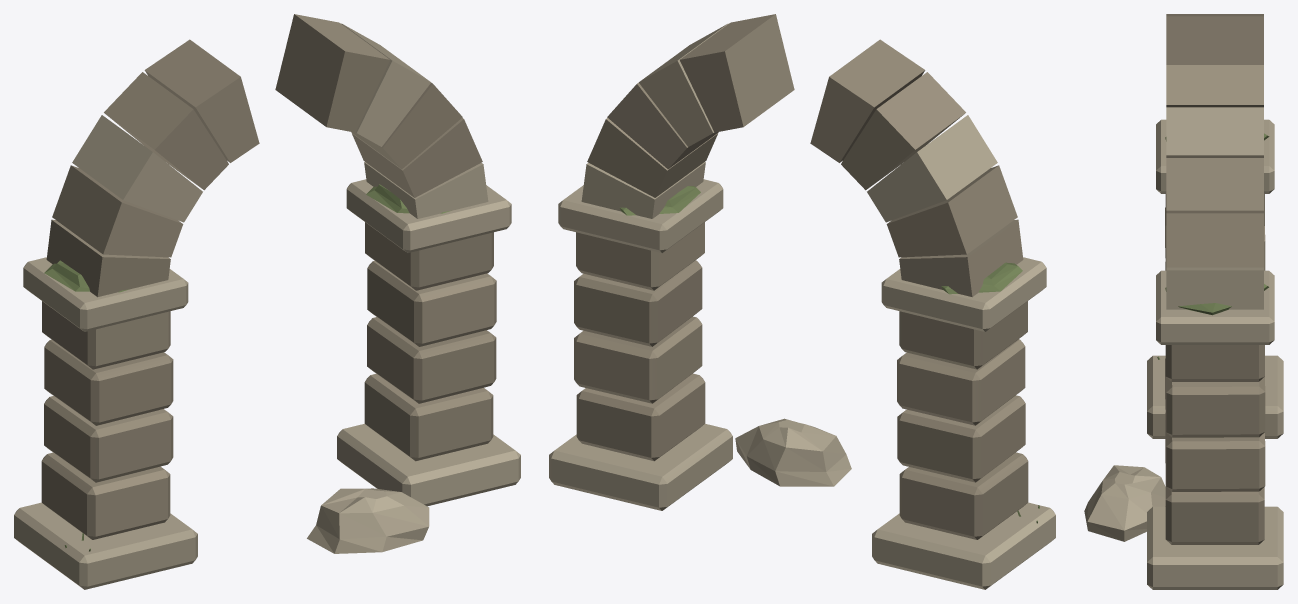
File: broken-sun-arch.glb
The picture shows the model from 3 angles, left to right: view 1: azimuth 30°, elevation 25°; view 2: azimuth 150°, elevation 25°; view 3: azimuth 270°, elevation 25°; orthographic projection. The views are drawn at different scales.
Parts seen in each view (by area): view 1: broken-sun-arch; view 2: broken-sun-arch; view 3: broken-sun-arch.
Boxes of the visible parts, <box> form: broken-sun-arch: <box>14,14,520,589</box>; broken-sun-arch: <box>549,14,1055,589</box>; broken-sun-arch: <box>1084,14,1283,589</box>.
Size of the model in its own units: 3.5 by 3.56 by 1.43.
